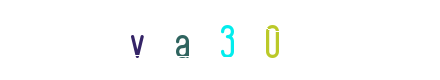0: (232, 0, 312, 80)
3: (188, 0, 268, 80)
A: (180, 0, 260, 80)
V: (123, 0, 203, 80)
